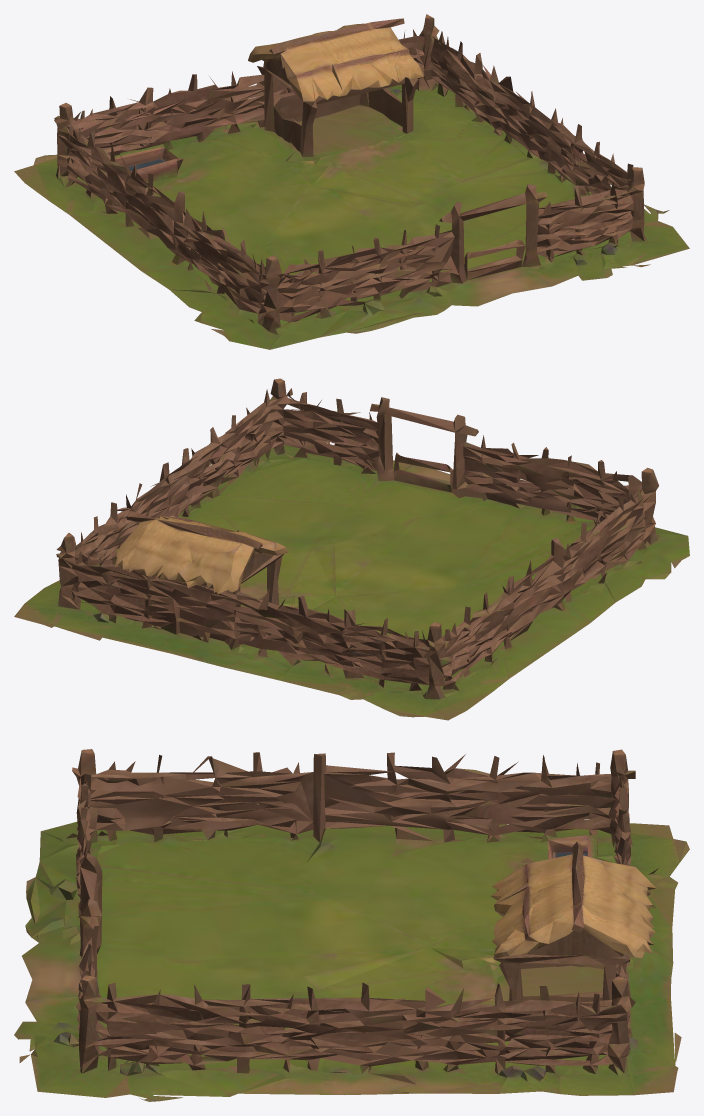
The model's file is pasture.glb.
The picture shows the model from 3 angles, top to bottom: view 1: azimuth 30°, elevation 25°; view 2: azimuth 150°, elevation 25°; view 3: azimuth 270°, elevation 25°; orthographic projection. The views are drawn at different scales.
Bounding box in the file's own units: 1.9 × 0.3869 × 1.87.
Materials: 1 (1 with a texture image).
